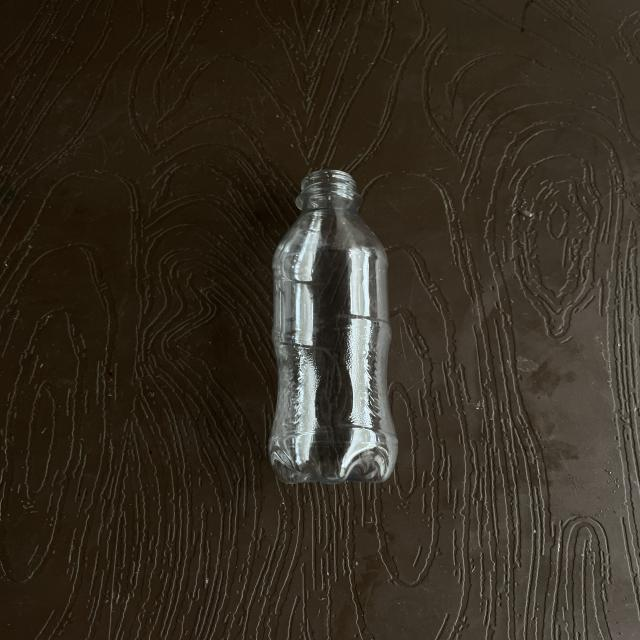PET_ClearBottle: (257, 167, 412, 637)
